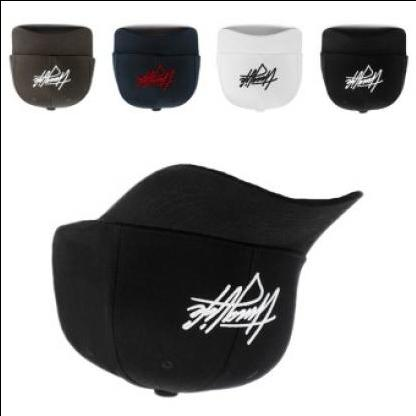cap: (37, 155, 377, 404)
